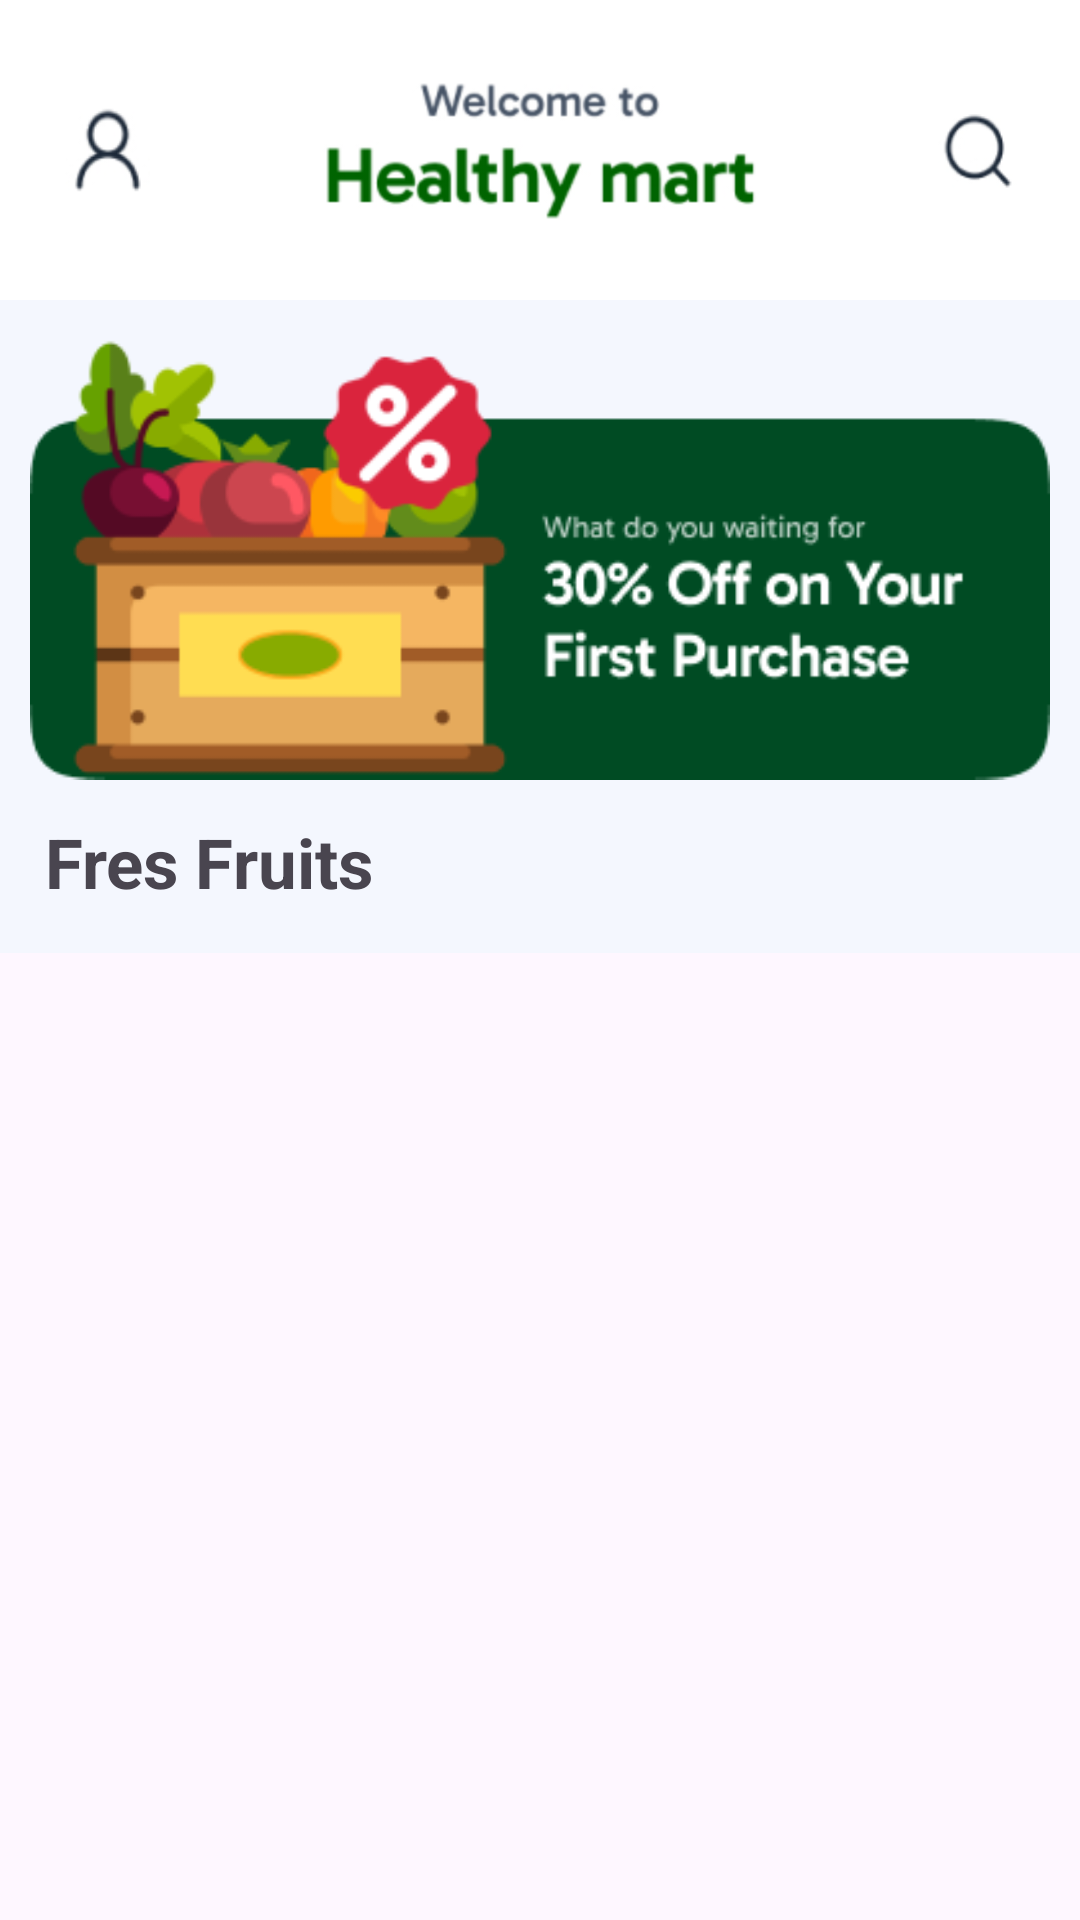

Where icons sit on this 1080×1920 app screen, as (x1=x1, y1=y1, x2=x2, y2=y2):
search: (x1=944, y1=115, x2=1011, y2=187)
user setting: (x1=75, y1=109, x2=141, y2=191)
